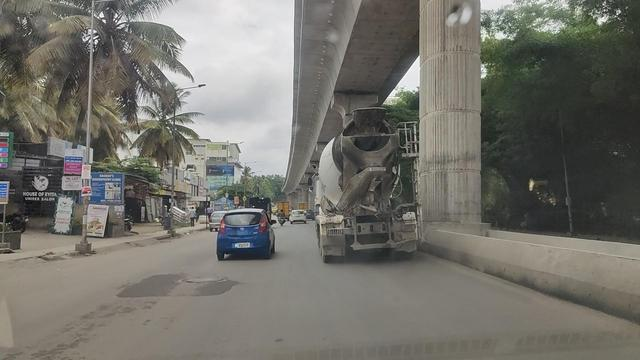HMV: (312, 107, 415, 257)
LMV: (216, 210, 276, 261)
RoadDamages: (114, 274, 167, 298), (174, 273, 235, 287)
